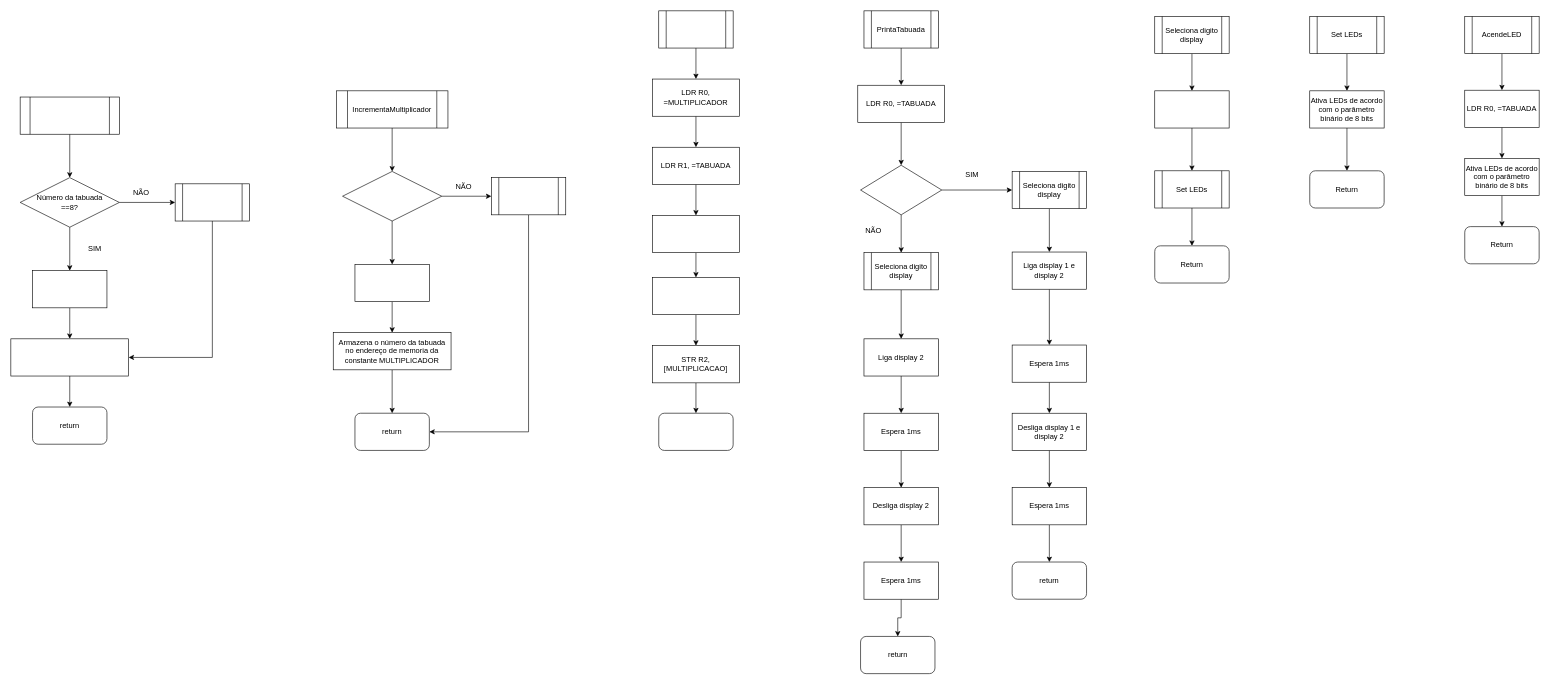
Some shapes in this 1550 by 684 pixel diagram are drawn without their labels. The shapes that lost their labels are listed below. From the top down, each one's centre as x and y in pixels, then its label:
At point 695,29: "Multiplicacao".
At point 69,115: "IncrementaTabuada".
At point 1191,109: "Seta bit de LEDs de acordo com o parâmetro de 0 a F".
At point 212,202: "Número da tabuada ++".
At point 392,196: "Número multiplicador == 9?".
At point 528,196: "Número multiplicador ++".
At point 901,190: "R0 > 9".
At point 695,234: "LDR R2, =MULTIPLICACAO".
At point 69,289: "Número da tabuada = 1".
At point 391,283: "Número multiplicador = 1".
At point 695,296: "MUL R2, R0, R1".
At point 69,357: "Armazena o número da tabuada no endereço de memoria da constante TABUADA".
At point 695,431: "return MULTIPLICACAO".
